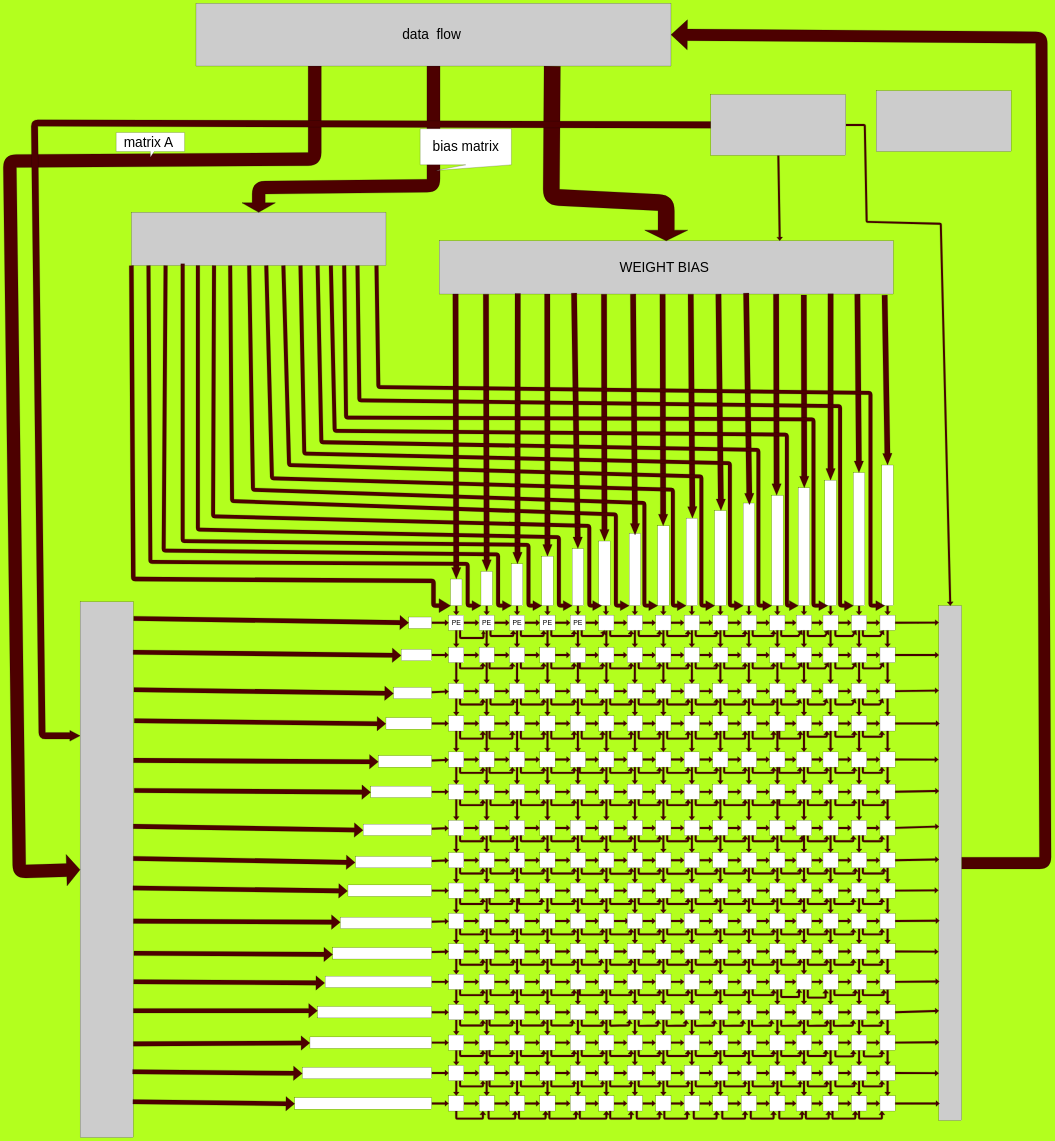
Image size: 1055x1141. Some labels were removed from this diagram. The box of each missing label's shape, as (x1, y1, x2, y2) in pixels:
ACTIVATION MATRIX: (80, 602, 133, 1138)
BIAS BUFFER: (131, 212, 386, 266)
CONTROL BLOCK: (711, 94, 846, 155)
IMPROVEMENT IN THIS MAC: (876, 91, 1011, 152)
